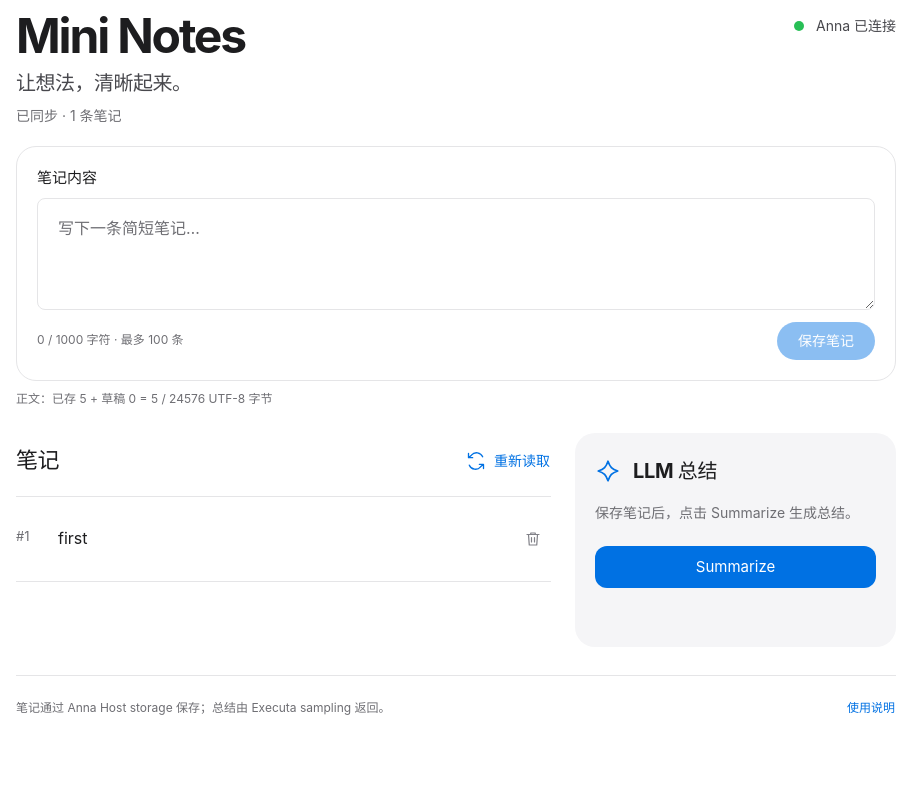
Test: Mini Notes application › invalidates a displayed summary immediately when deletion starts
Expected: the button "重新读取" is enabled, 457,442 -> 551,478
Click the button "Summarize" at (736, 566), box 595,546 -> 876,588
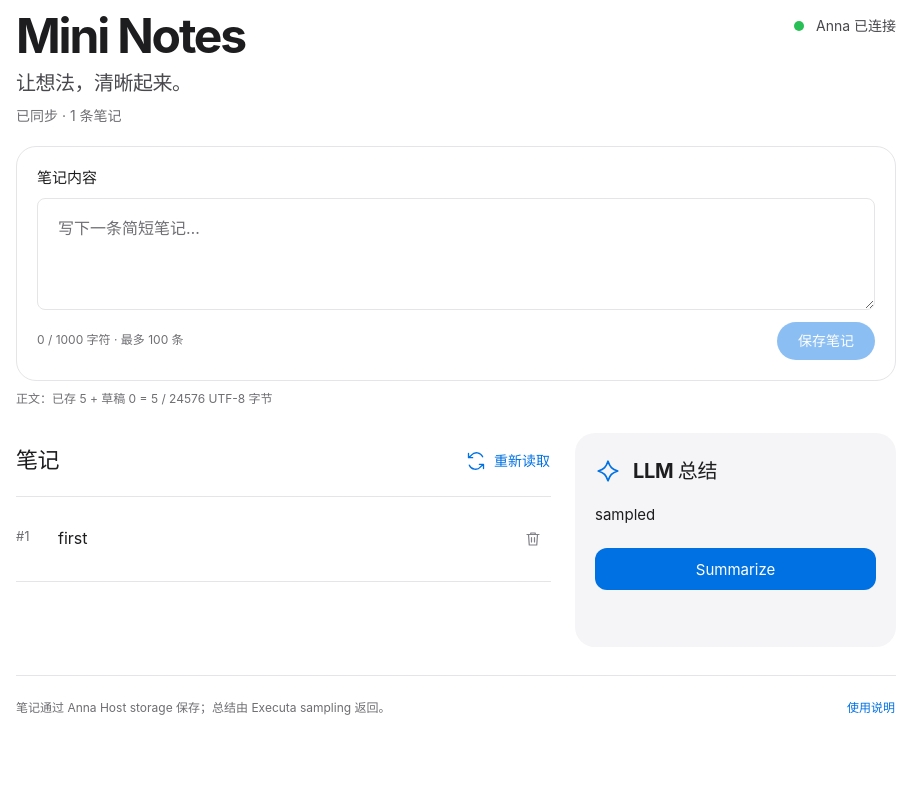
Now the text "sampled" is shown, box 595,505 -> 655,524
Click the button named "删除笔记 1" at (533, 539), box 515,521 -> 551,557
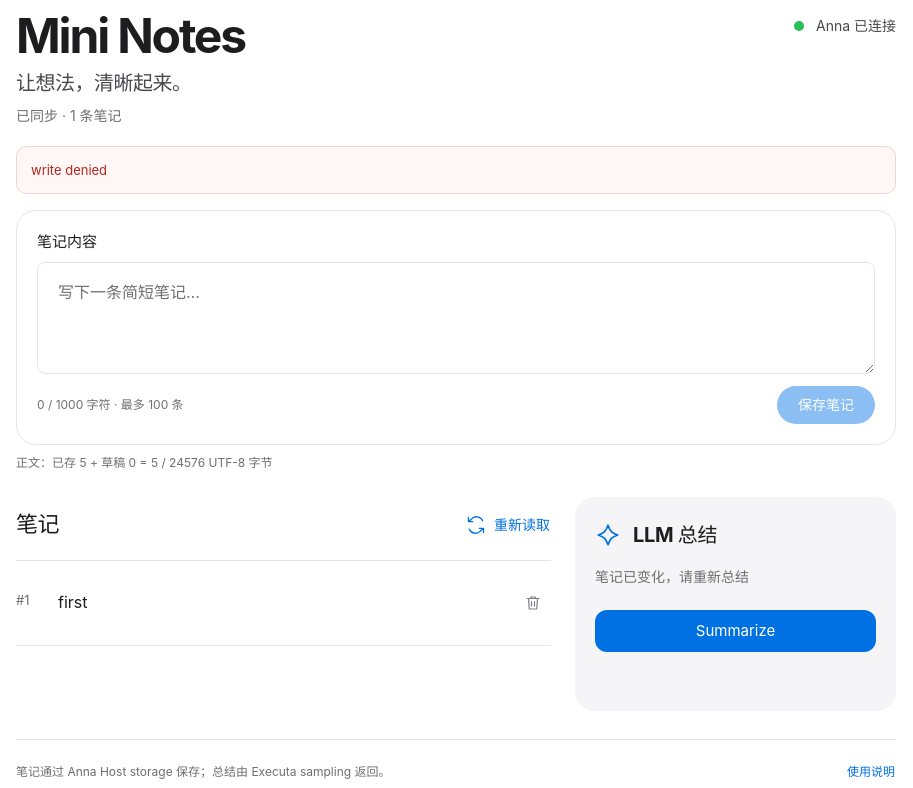
Expected: the list item with test id "note-1" is shown, 16,561 -> 551,646
Now the text with test id "summary-text" is gone
